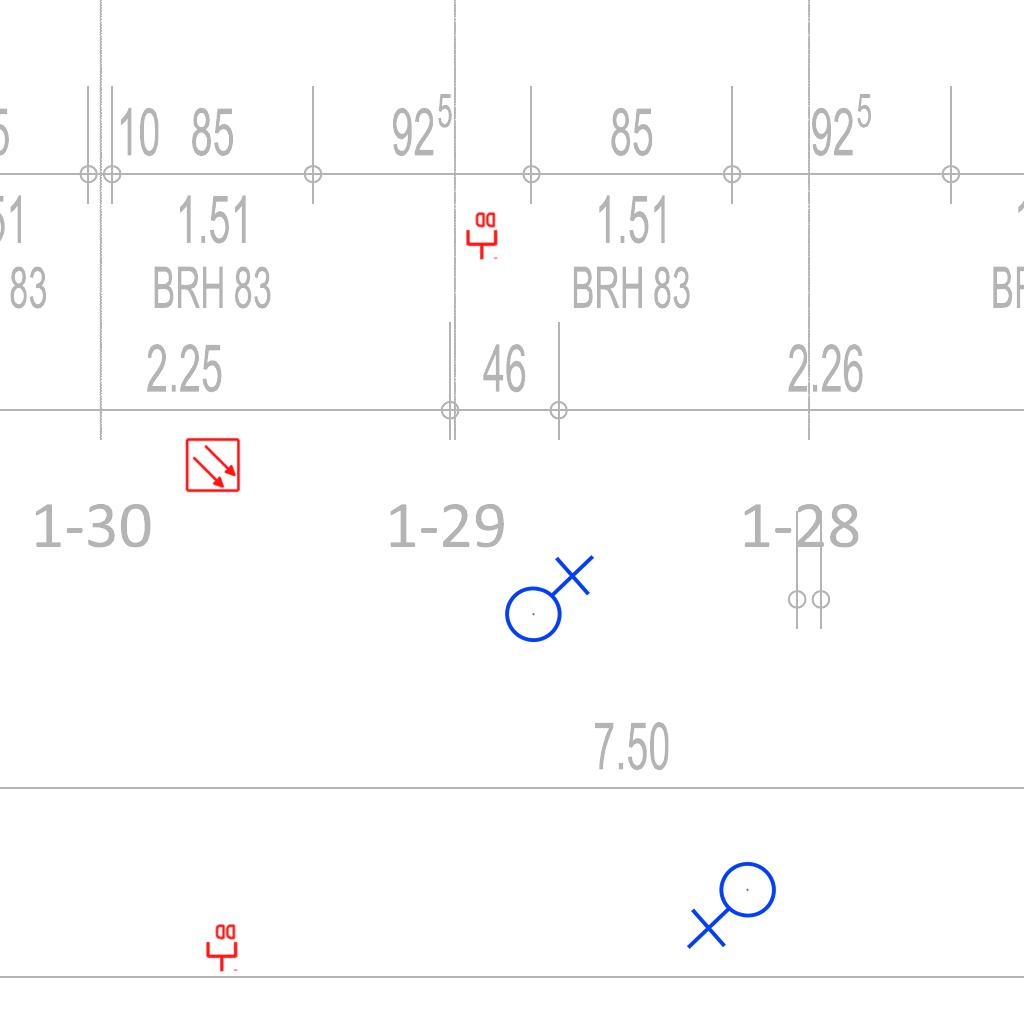Datenanschluss_zweifach: (204, 922, 238, 973), (464, 210, 498, 261)
Elektroanschluss_allgemein_230V_Geraeteanschlussdose_230V: (686, 860, 785, 954), (496, 550, 595, 644)
RMO_Rauchmelder_optischer: (185, 437, 241, 493)
